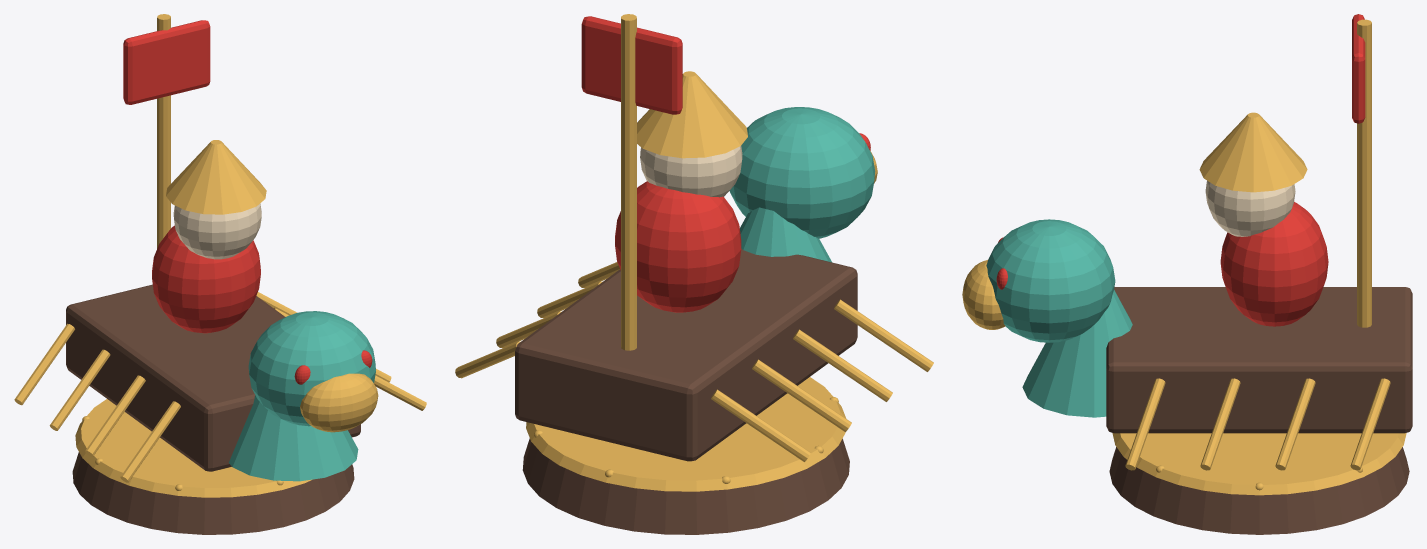
File: 09-dragon-boat.glb
3 renders of one model, left to right at view 1: azimuth 30°, elevation 25°; view 2: azimuth 150°, elevation 25°; view 3: azimuth 270°, elevation 25°, orthographic. The views are drawn at different scales.
Parts seen in each view (by area): view 1: carved walnut plinth, gold filigree rim, dragon prow, dragon eye, general head; view 2: carved walnut plinth, gold filigree rim, dragon eye, dragon prow, general head; view 3: carved walnut plinth, gold filigree rim, dragon prow, dragon eye, general head.
Boxes of the visible parts, x1,y1,x2,y2 form: carved walnut plinth: (66, 284, 360, 534); gold filigree rim: (14, 14, 426, 497); dragon prow: (229, 311, 375, 481); dragon eye: (123, 20, 372, 384); general head: (173, 203, 261, 259); carved walnut plinth: (515, 249, 857, 534); gold filigree rim: (455, 14, 933, 491); dragon eye: (581, 16, 870, 312); dragon prow: (729, 107, 875, 262); general head: (640, 146, 742, 197); carved walnut plinth: (1106, 287, 1412, 534); gold filigree rim: (962, 19, 1406, 495); dragon prow: (986, 219, 1132, 417); dragon eye: (996, 14, 1365, 326); general head: (1205, 180, 1295, 236).
Bounding box in the file's own units: 1.25 × 1.65 × 1.5.
